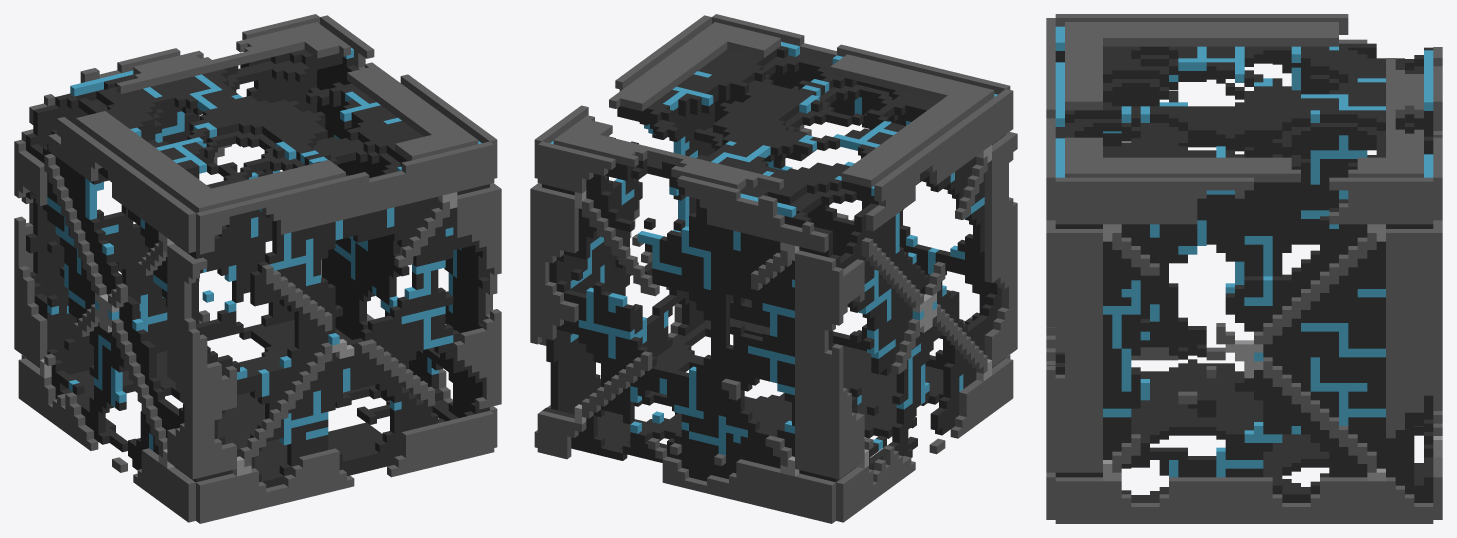
Rendered from space_crate_die1.obj.
The picture shows the model from 3 angles, left to right: view 1: azimuth 30°, elevation 25°; view 2: azimuth 150°, elevation 25°; view 3: azimuth 270°, elevation 25°; orthographic projection. The views are drawn at different scales.
Parts seen in each view (by area): view 1: space_crate_die1; view 2: space_crate_die1; view 3: space_crate_die1.
Part boxes in pixels (x1,y1,x2,y2): space_crate_die1: (14, 14, 501, 523); space_crate_die1: (530, 14, 1017, 523); space_crate_die1: (1046, 14, 1442, 523).
Bounding box in the file's own units: 42 × 40 × 42.
Materials: 1 (1 with a texture image).
